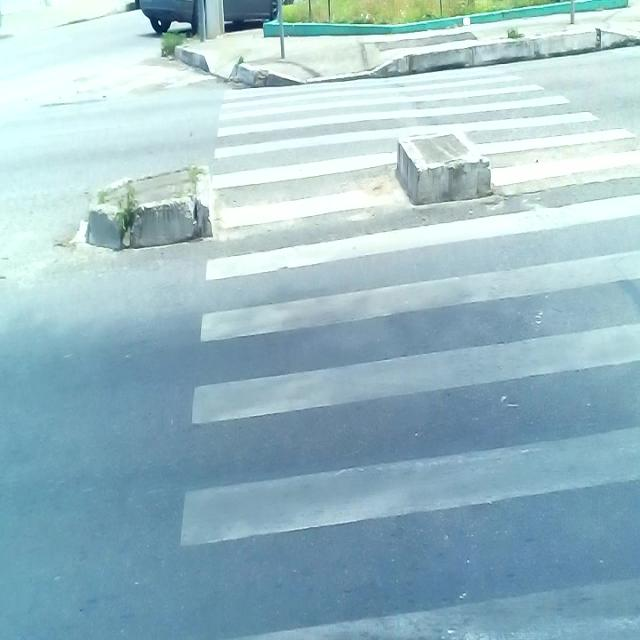crosswalk: (166, 63, 640, 640)
